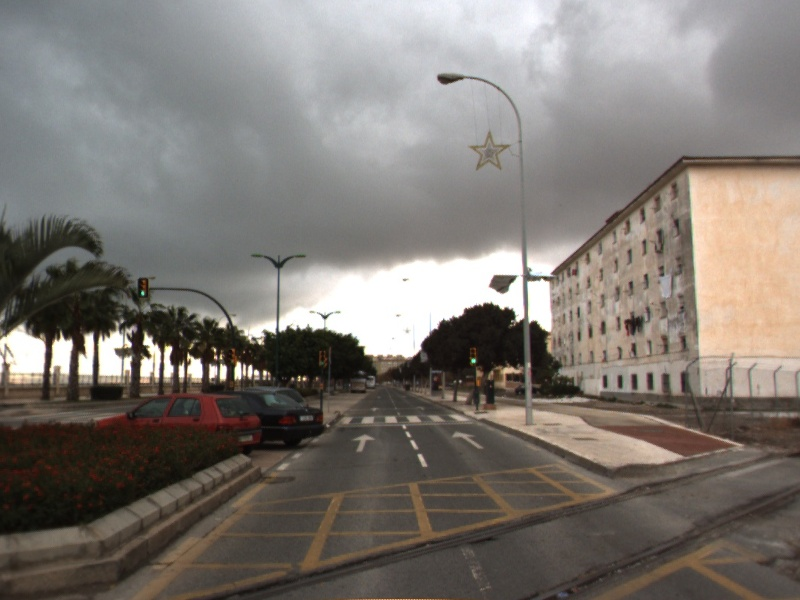STRAIGHT: (449, 429, 486, 451), (350, 432, 378, 454)
